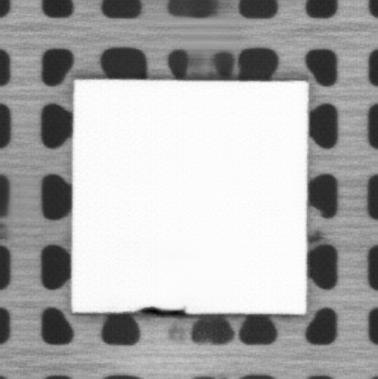DIE_BROKEN: (135, 304, 188, 317)
